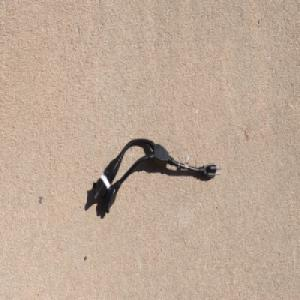Wire: (90, 136, 222, 214)
